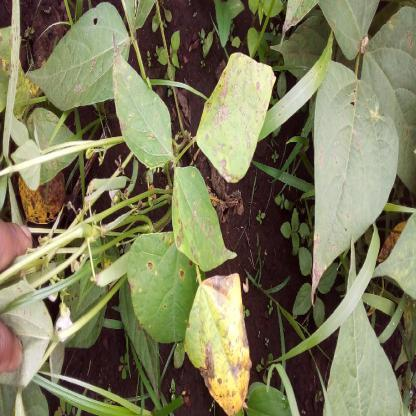Beans_Angular_LeafSpot: (316, 59, 397, 297), (22, 0, 133, 107), (193, 54, 274, 186), (360, 12, 416, 192), (189, 272, 252, 413), (133, 236, 204, 341), (175, 167, 242, 271)
